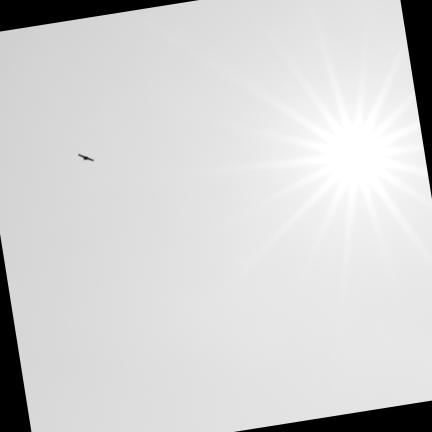Shahed: (77, 153, 95, 162)
